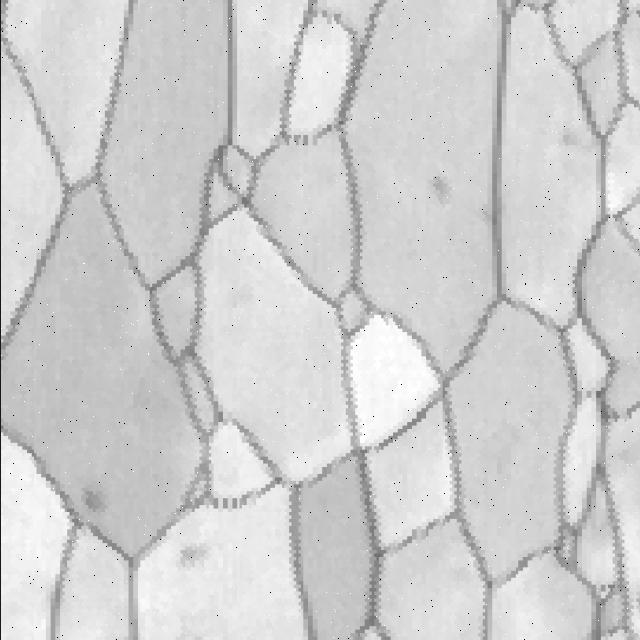good_void: (429, 169, 454, 212), (173, 544, 205, 573), (82, 477, 103, 516)
